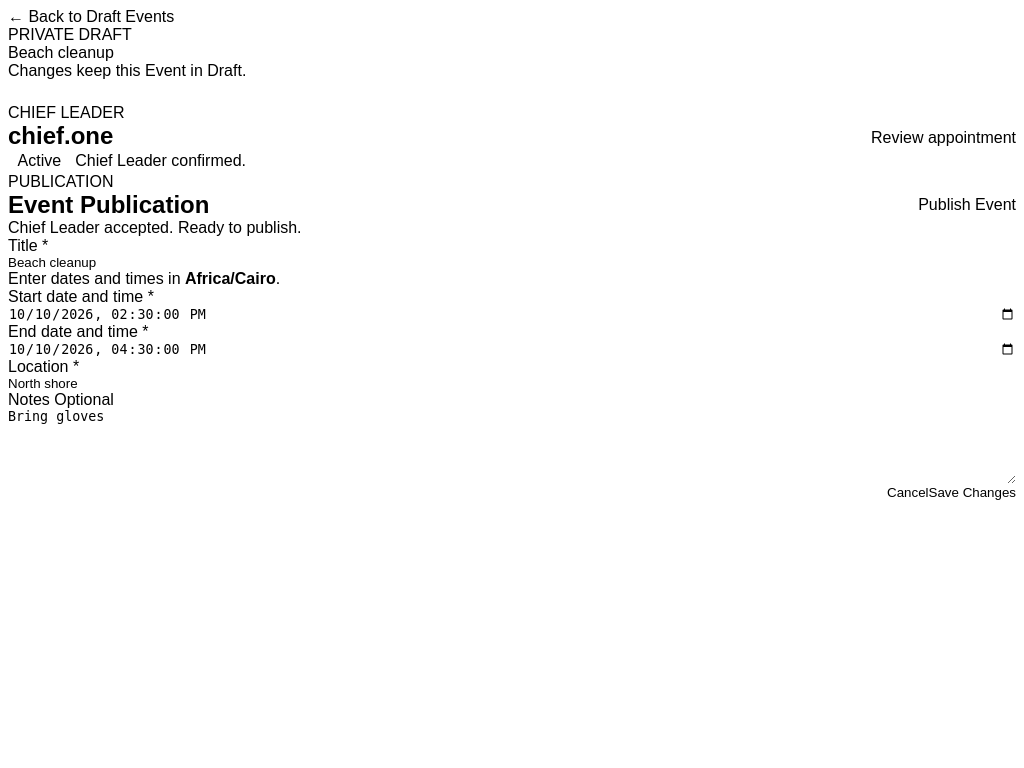
it: DraftEditComponent › enables publish button when an active chief leader is present and confirms before publishing
The width and height of the screenshot is (1024, 768).
# Click publish button to open confirmation dialog
Click the button with class "btn-publish". click: (967, 205)
box: [918, 195, 1016, 215]
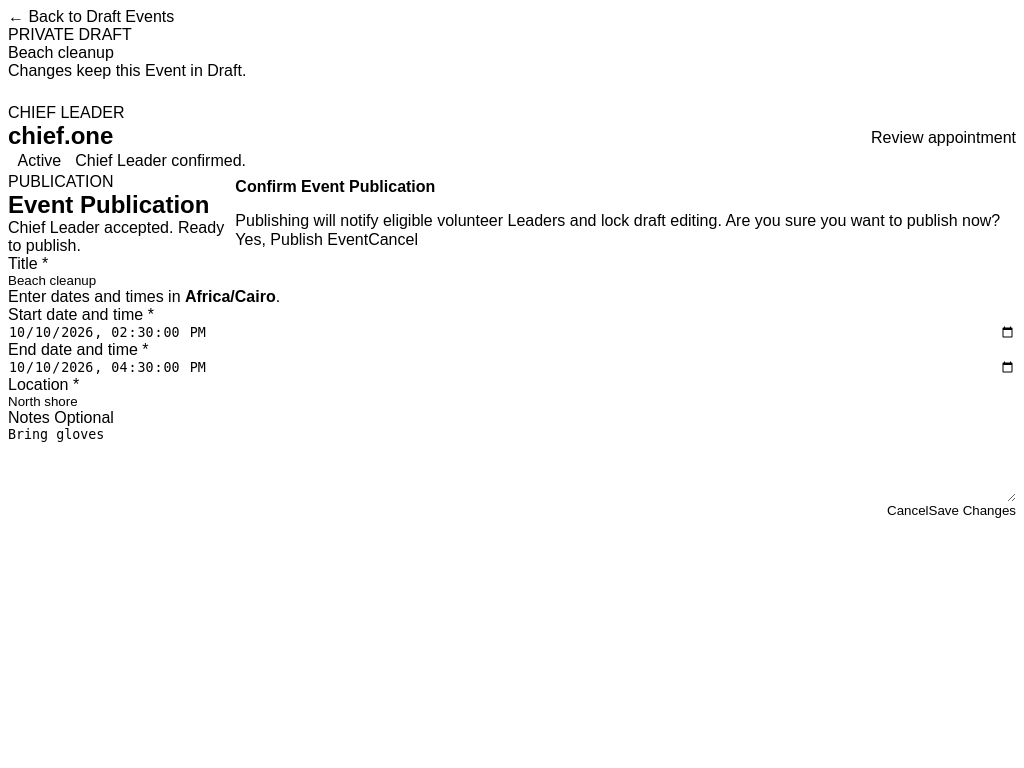
Check: the dialog with class "confirm-publish-card" is shown, box [235, 178, 1016, 250]
Check: the text "Are you sure you want to publish now?" is shown, box [235, 212, 1000, 229]
# Confirm publication
Click the button "Yes, Publish Event". click: (302, 240)
box: [235, 230, 368, 250]
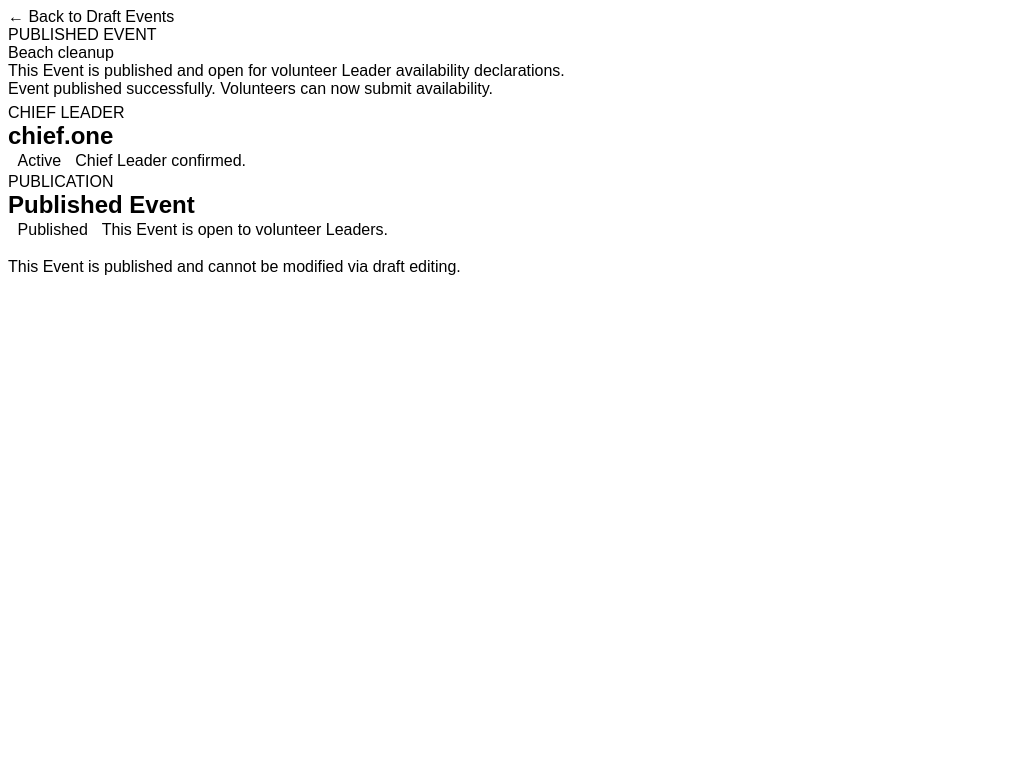
Check: the text "Published" is shown, box [18, 221, 88, 238]
Check: the text "Event published successfully" is shown, box [8, 80, 493, 97]
